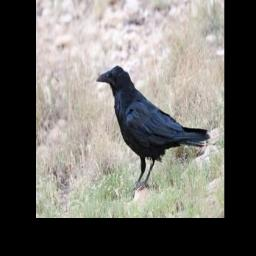Crow: (95, 64, 211, 196)
